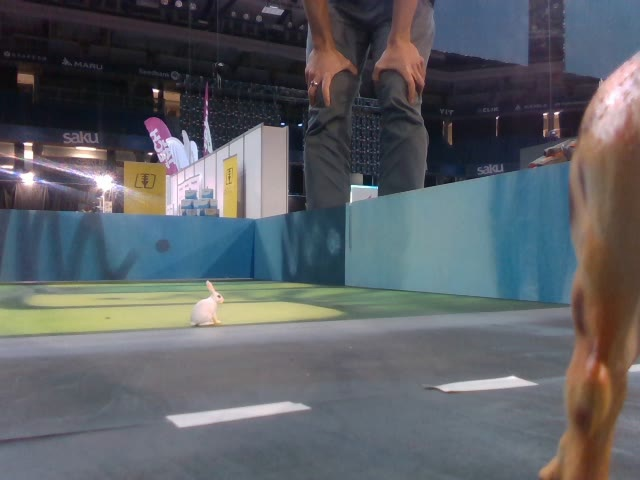toy: (189, 280, 224, 327)
